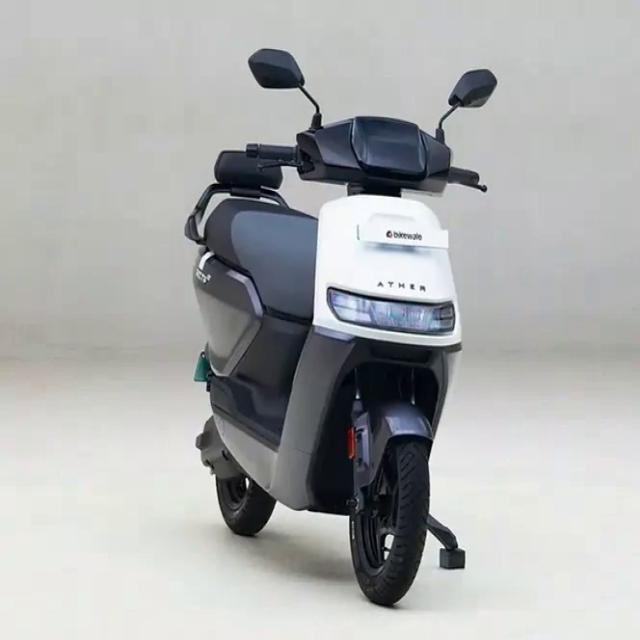objects: (170, 29, 513, 604)
